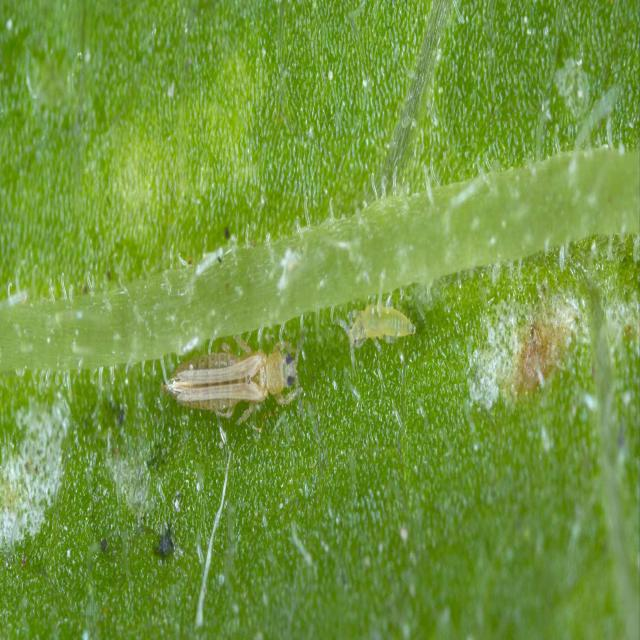Thrip-Adult-: (147, 331, 318, 433)
Thrip-Larva-: (341, 296, 426, 356)
